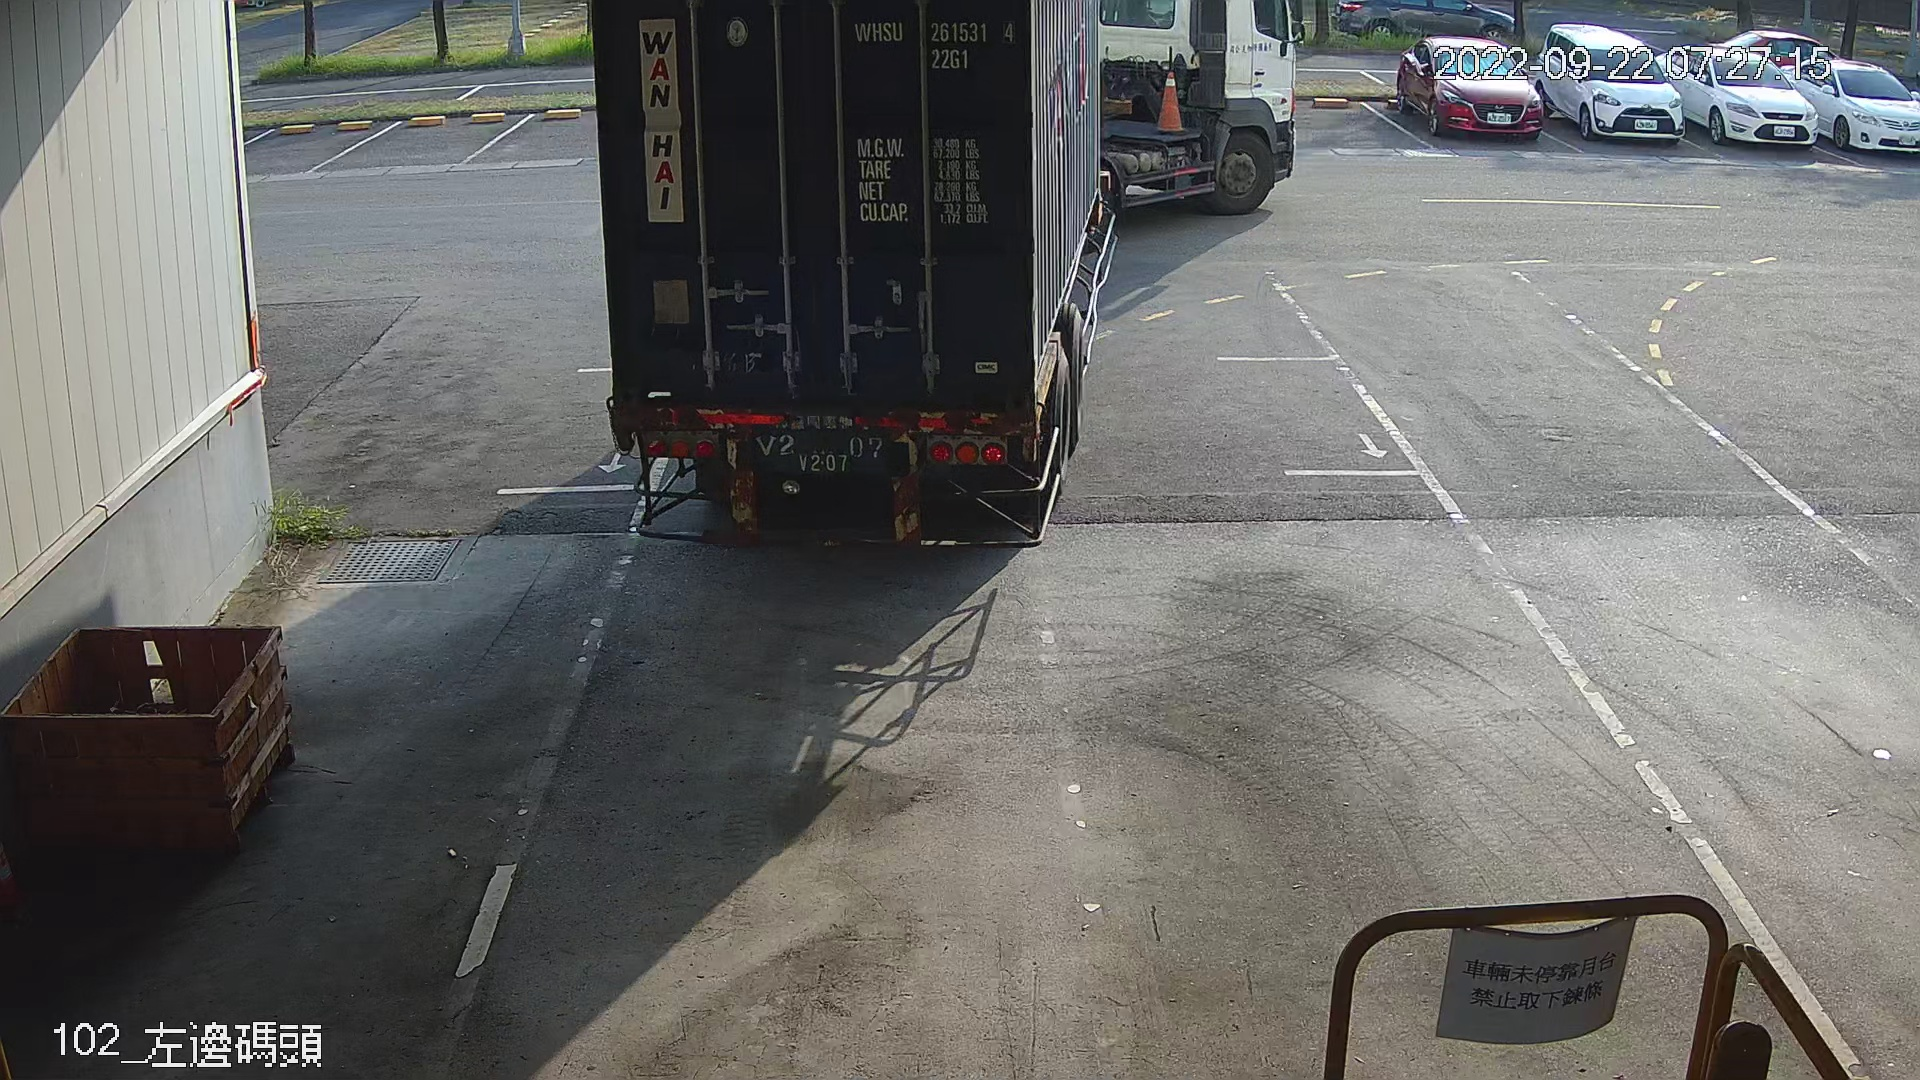container: (845, 11, 1026, 76)
